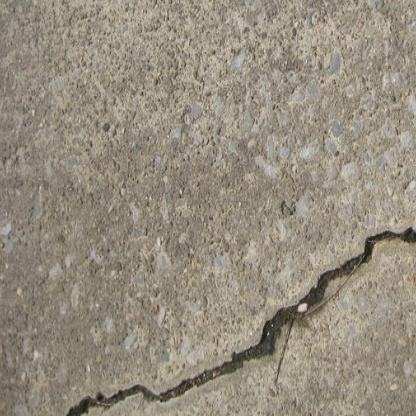Cracks: (42, 214, 416, 416)
